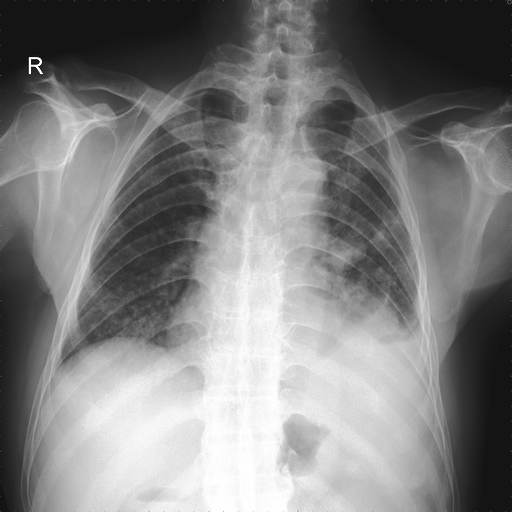Aortic enlargement: (325, 209, 404, 270), (344, 268, 410, 334), (330, 233, 365, 269)
Cardiomegaly: (74, 196, 179, 350)
Consolidation: (277, 153, 330, 215)
ILD: (340, 206, 420, 327), (94, 269, 178, 342)
Nodule/Mass: (169, 287, 340, 366)
Pleural effusion: (385, 320, 427, 370)
Pleural thickening: (74, 196, 179, 350), (325, 209, 404, 270), (347, 298, 402, 340)
Pneumothorax: (369, 215, 401, 243)
Pulmonary fibrosis: (74, 196, 179, 350)
